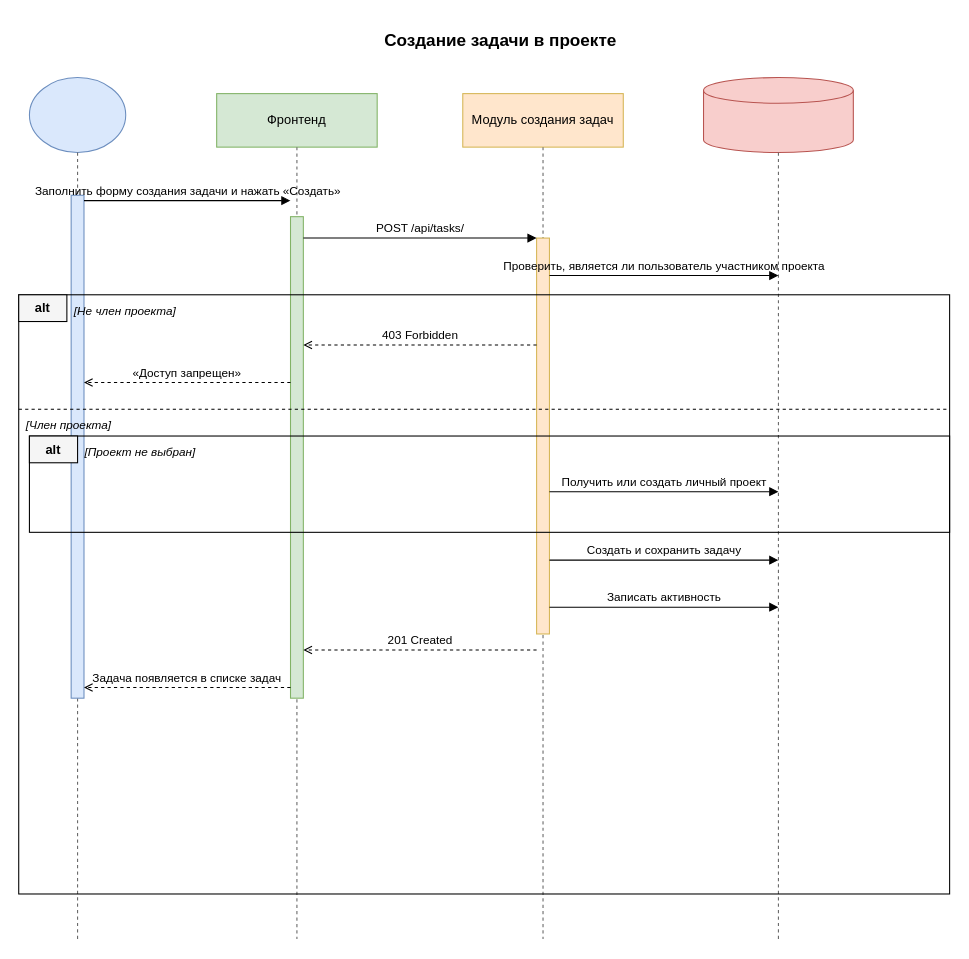
This 969x959 diagram has some shape labels left out. The centre of each missing label's shape, as x and y in pixels:
"База данных" belongs at point 777,114.
"Пользователь" belongs at point 77,114.
